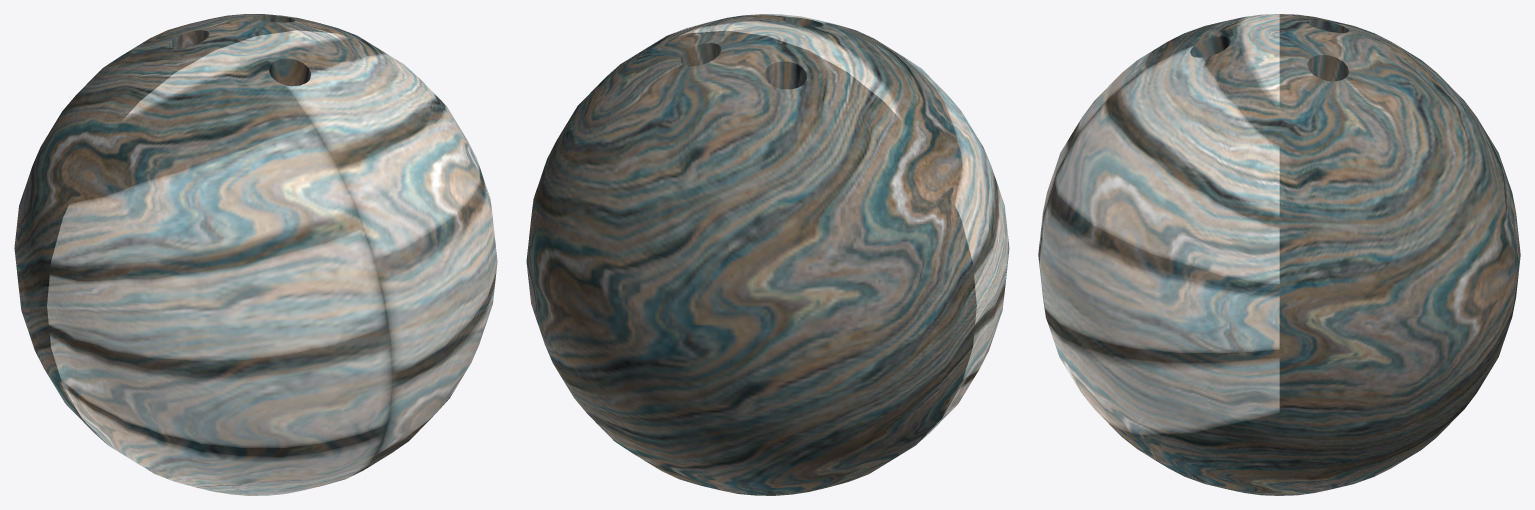
File: SM_Ball_004.fbx
3 renders of one model, left to right at view 1: azimuth 30°, elevation 25°; view 2: azimuth 150°, elevation 25°; view 3: azimuth 270°, elevation 25°, orthographic.
Visible parts, largest first — view 1: SM_Ball_004; view 2: SM_Ball_004; view 3: SM_Ball_004.
Part boxes in pixels (box(x1,y1,x2,y2)): SM_Ball_004: box(14, 14, 497, 495); SM_Ball_004: box(526, 14, 1009, 495); SM_Ball_004: box(1038, 14, 1520, 495).
Size of the model in its own units: 20 by 20 by 20.
Materials: 1 (1 with a texture image).
